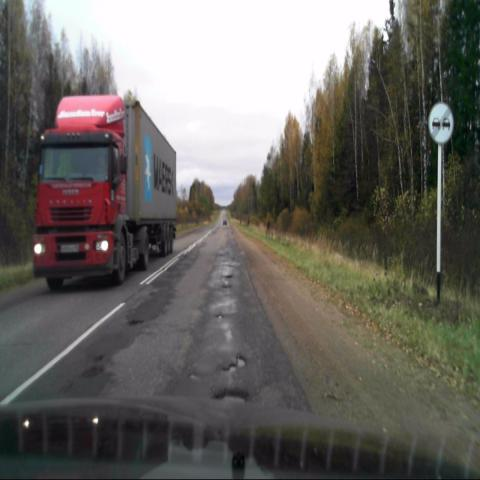3_21: (428, 102, 454, 145)
